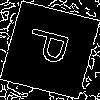P: (25, 25, 79, 69)
